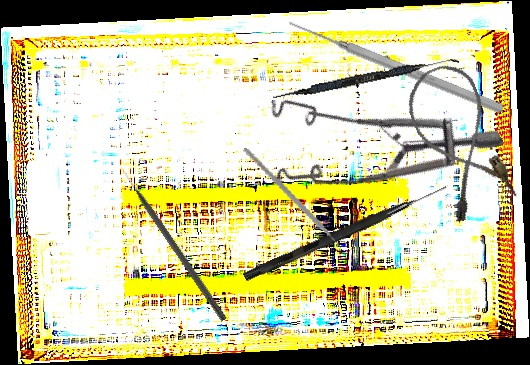Cannula: (397, 56, 521, 225)
Chopper: (223, 147, 361, 259)
Hook Surgical: (242, 179, 449, 285), (117, 164, 229, 323)
Pusher: (284, 15, 506, 116)
Spatula Surgical: (272, 51, 459, 106)
Speculum: (241, 12, 505, 249)
